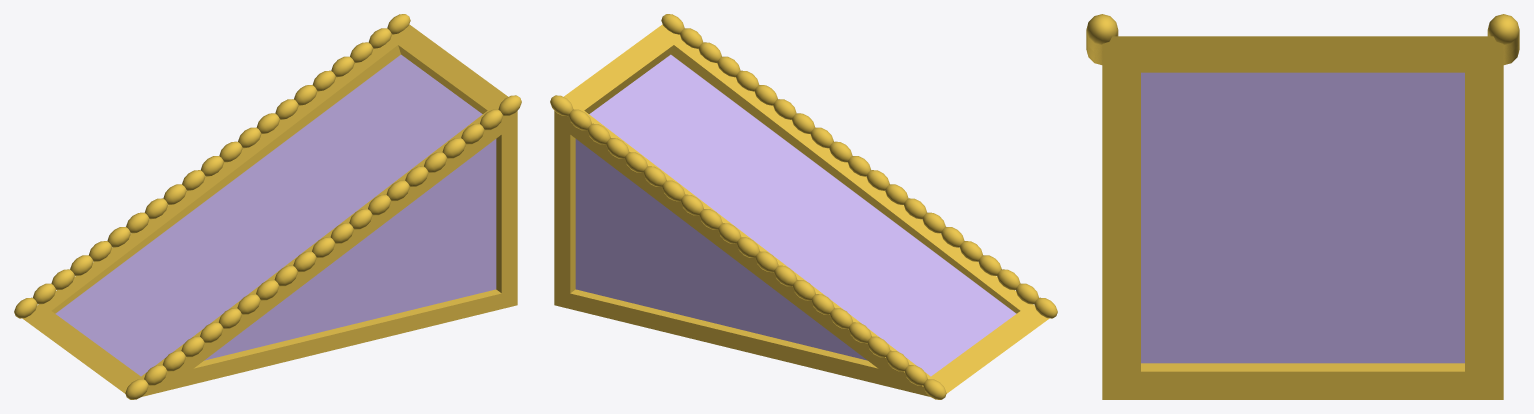
Rendered from puzzleRamp.fbx.
3 renders of one model, left to right at view 1: azimuth 30°, elevation 25°; view 2: azimuth 150°, elevation 25°; view 3: azimuth 270°, elevation 25°, orthographic. The views are drawn at different scales.
Parts seen in each view (by area): view 1: Ramp; view 2: Ramp; view 3: Ramp.
Boxes of the visible parts, bbox=[...] form: Ramp: bbox=[14, 14, 521, 399]; Ramp: bbox=[550, 14, 1057, 399]; Ramp: bbox=[1086, 14, 1519, 399].
Bounding box in the file's own units: 410 × 209 × 216.
